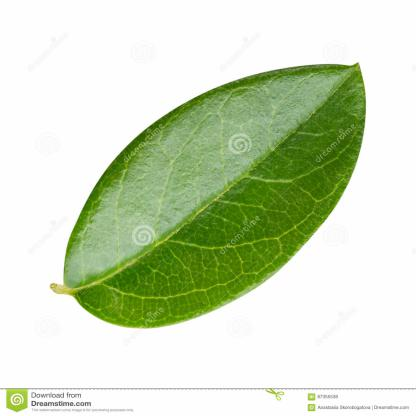blueberry leaf: (41, 52, 380, 338)
